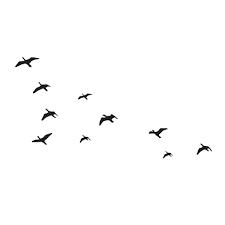bird: (5, 49, 44, 68), (24, 126, 54, 149), (192, 134, 213, 158), (73, 128, 95, 148), (68, 86, 97, 101), (31, 76, 54, 93), (154, 146, 175, 161)
